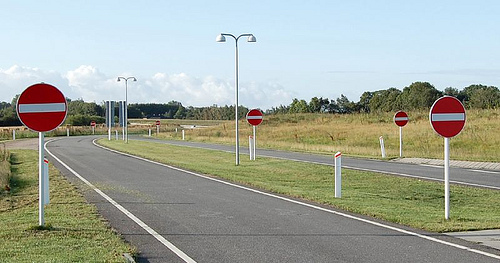No entry: (14, 82, 68, 132), (429, 96, 467, 139), (393, 111, 412, 129), (246, 108, 264, 126)
